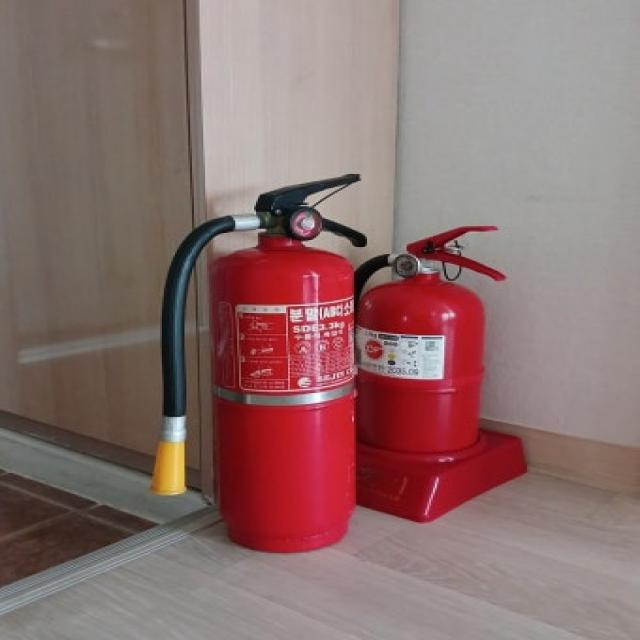pressure gauge: (290, 212, 320, 239), (392, 255, 418, 276)
